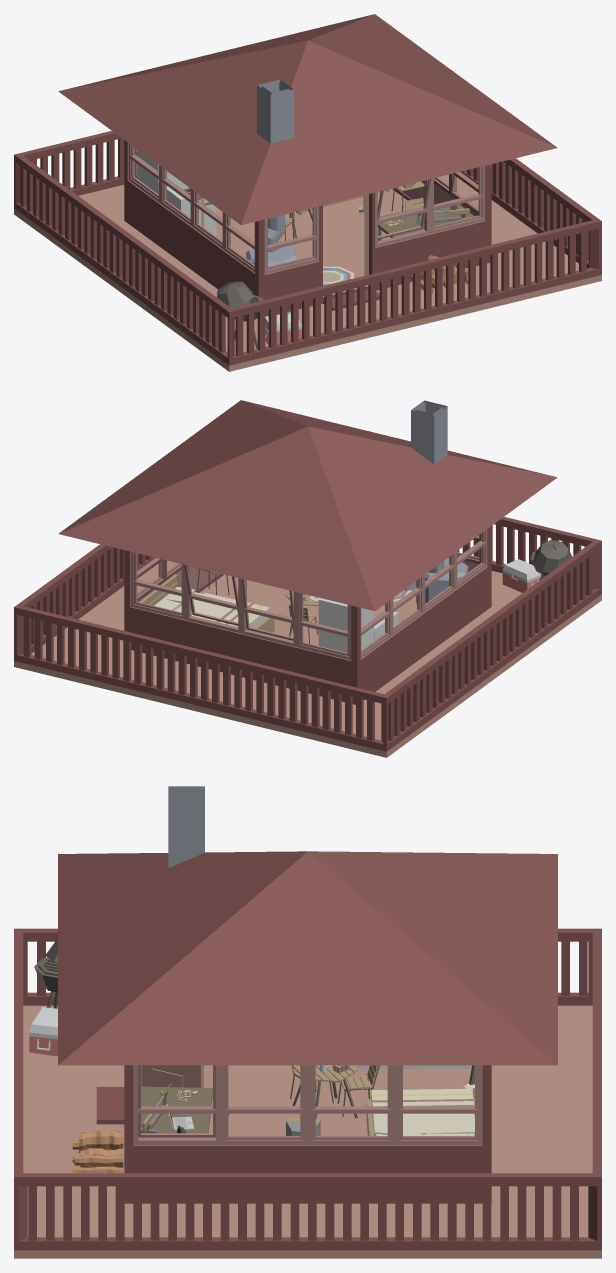
The model's file is explode.dae.
3 views of the same model, one above another, from view 1: azimuth 30°, elevation 25°; view 2: azimuth 150°, elevation 25°; view 3: azimuth 270°, elevation 25° (orthographic). The views are drawn at different scales.
Parts seen in each view (by area): view 1: Mesh1_Group1_Model; view 2: Mesh1_Group1_Model; view 3: Mesh1_Group1_Model.
Part boxes in pixels (x1,y1,x2,y2): Mesh1_Group1_Model: (14, 14, 601, 371); Mesh1_Group1_Model: (14, 400, 601, 757); Mesh1_Group1_Model: (14, 786, 601, 1258).
Size of the model in its own units: 9.75 by 9.75 by 5.29.
